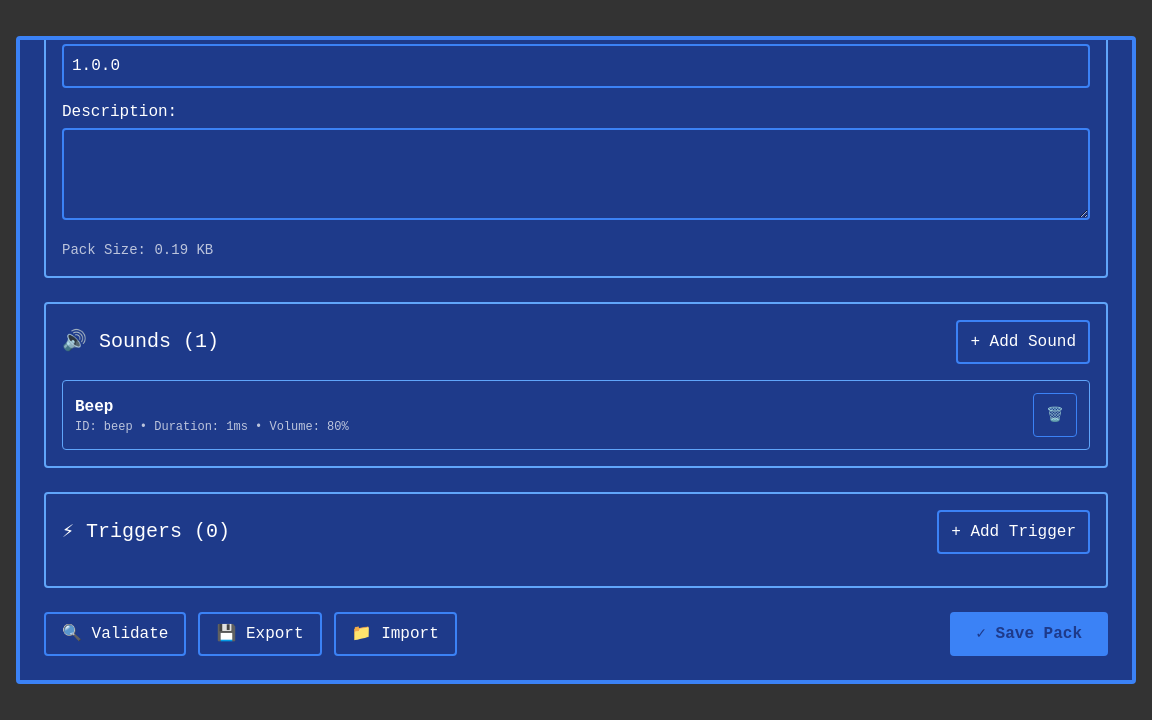
it: SoundPackCreator save › stays open and shows the reason when the save fails
The image size is (1152, 720).
(page scrolled)
Click the button "✓ Save Pack".
click(1029, 634)  # box [950,612,1108,656]
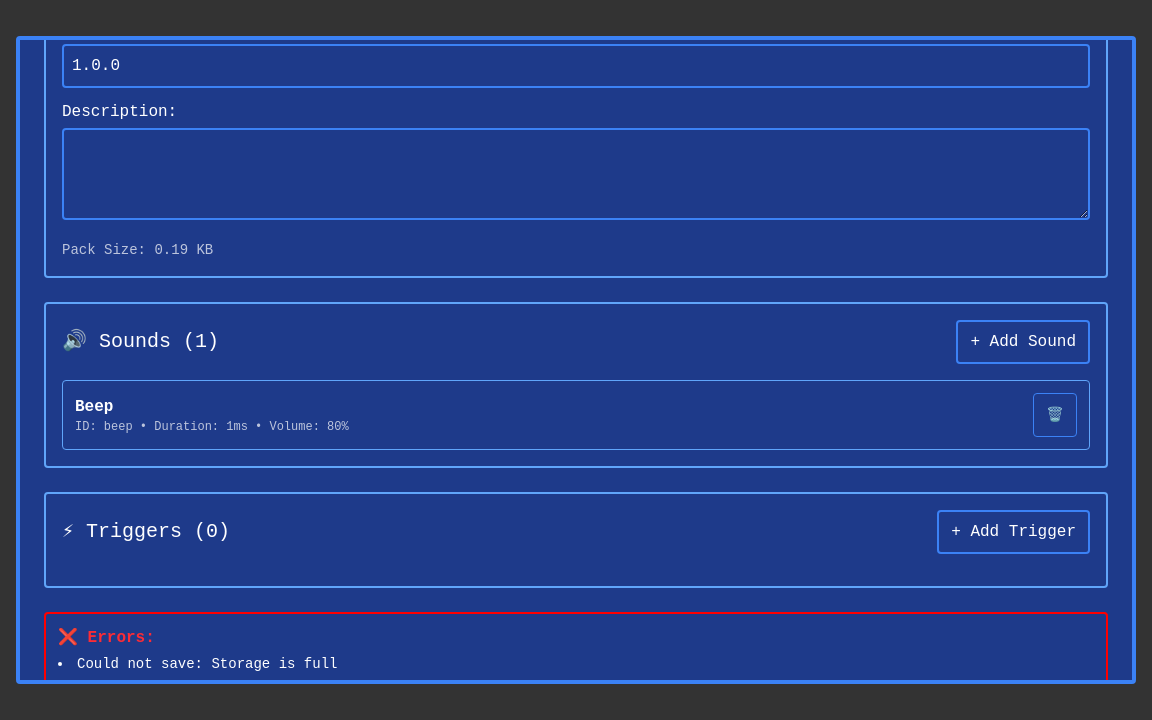
Check: the list item "Could not save: Storage is full" is shown, box [77,656,338,672]
